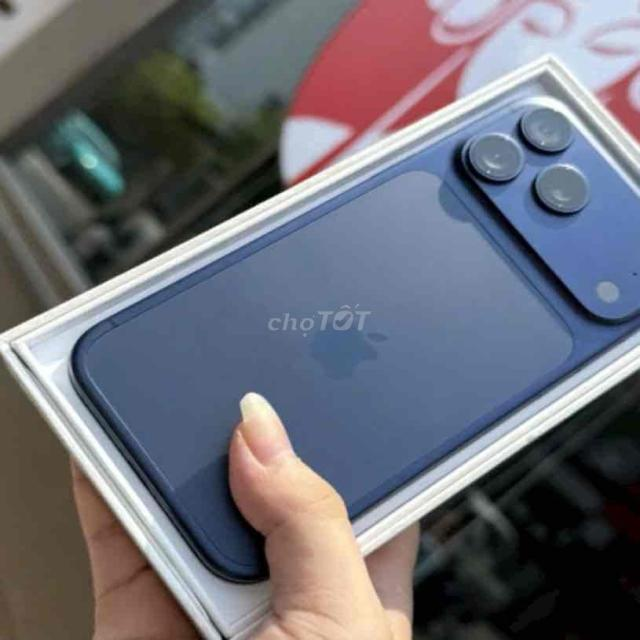gen_17: (71, 106, 639, 580)
